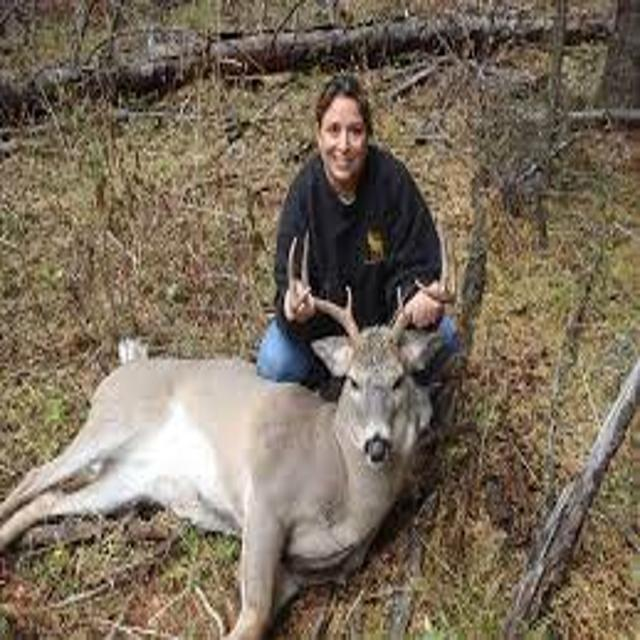Deer: (19, 293, 504, 613)
